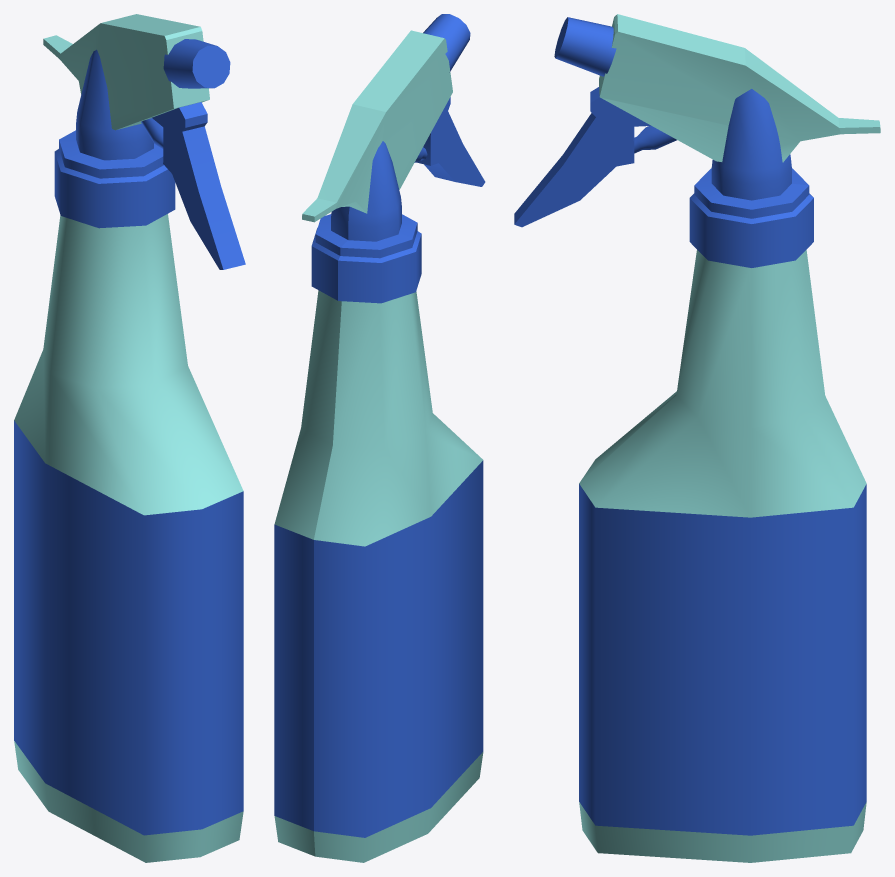
Rendered from cleaner 1.fbx.
3 renders of one model, left to right at view 1: azimuth 30°, elevation 25°; view 2: azimuth 150°, elevation 25°; view 3: azimuth 270°, elevation 25°, orthographic. The views are drawn at different scales.
Parts seen in each view (by area): view 1: Circle; view 2: Circle; view 3: Circle.
Boxes of the visible parts, box(x1,y1,x2,y2) form: Circle: box(14, 14, 245, 862); Circle: box(274, 14, 485, 862); Circle: box(514, 14, 880, 862).
Size of the model in its own units: 0.8388 by 4.65 by 1.9.
